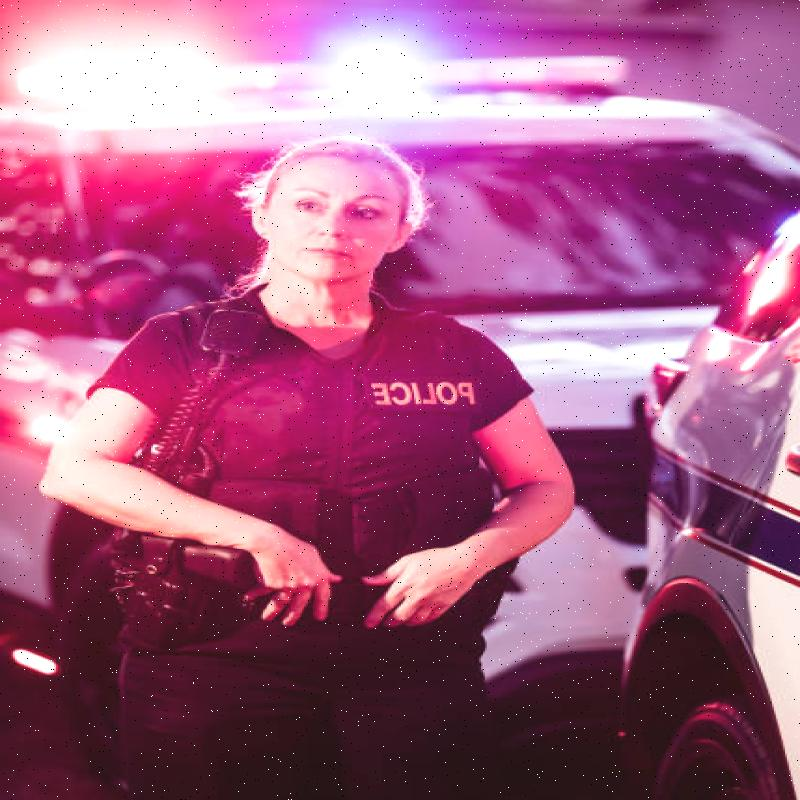AmbulanceSiren: (0, 35, 657, 139)
